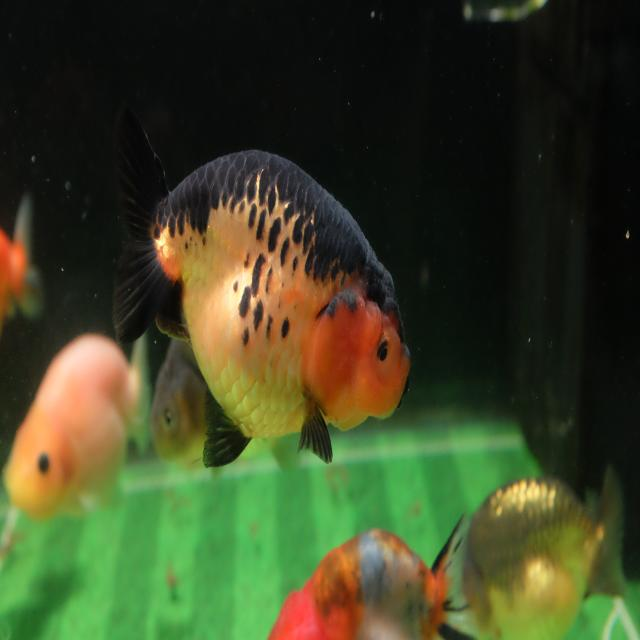Tilapia: (108, 97, 412, 472), (3, 323, 152, 526), (462, 462, 627, 640), (266, 511, 475, 640)
